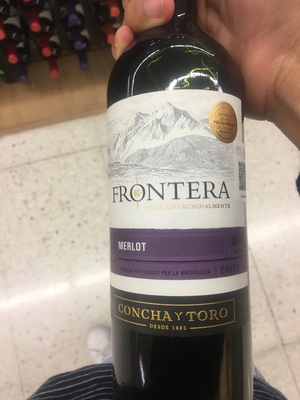frontera merlot: (98, 10, 283, 400)
